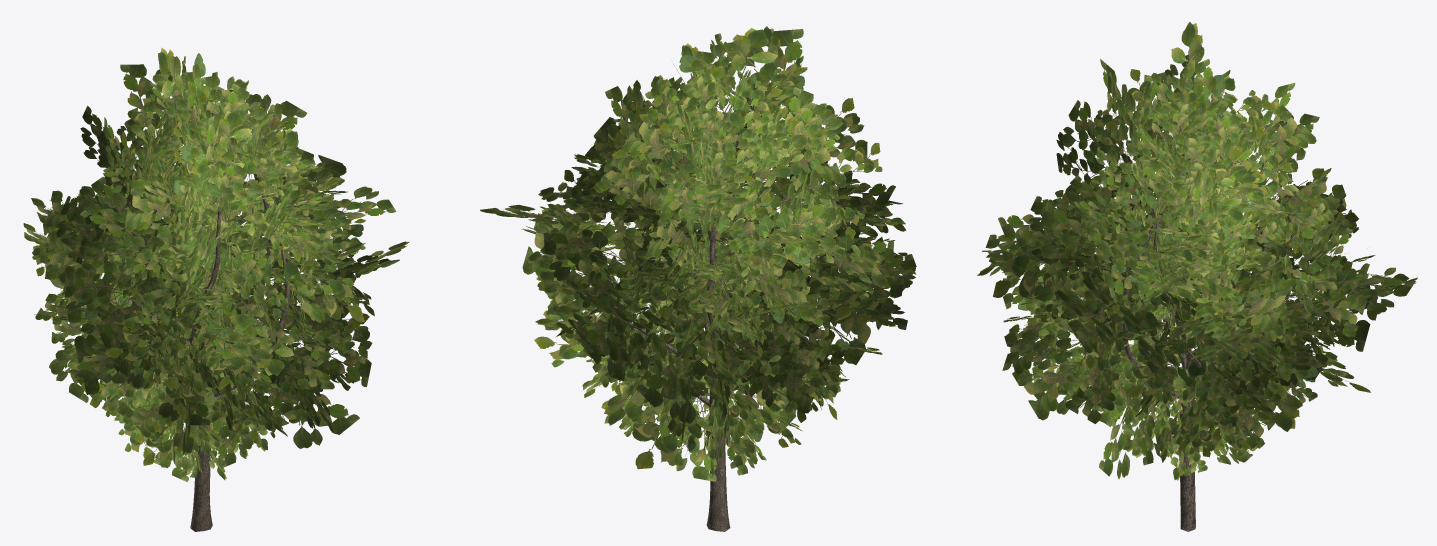
The model's file is tree_maple_v0_l0.glb.
3 views of the same model, side by side, from view 1: azimuth 30°, elevation 25°; view 2: azimuth 150°, elevation 25°; view 3: azimuth 270°, elevation 25° (orthographic). The views are drawn at different scales.
Visible parts, largest first — view 1: tree_maple_v0_l0; view 2: tree_maple_v0_l0; view 3: tree_maple_v0_l0.
Part boxes in pixels (left/top/right/bottom): tree_maple_v0_l0: left=23, top=47, right=409, bottom=531; tree_maple_v0_l0: left=480, top=26, right=916, bottom=531; tree_maple_v0_l0: left=977, top=22, right=1417, bottom=531.
Bounding box in the file's own units: 9.42 × 12.16 × 10.27.
2 materials, 2 textured.
